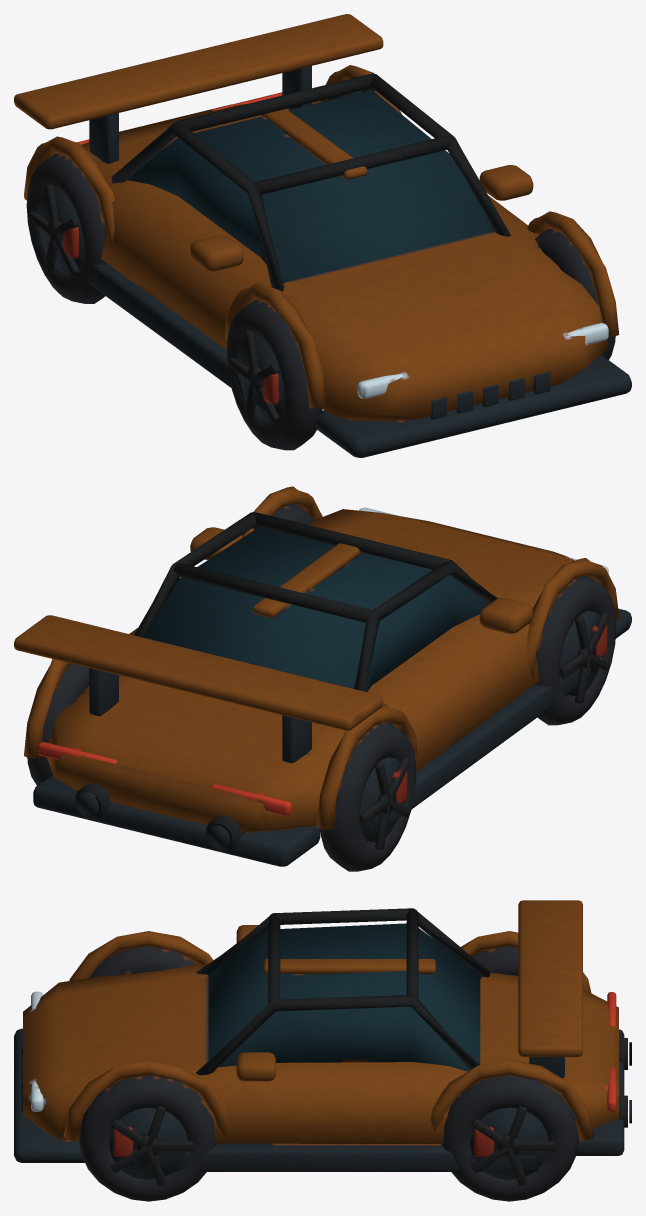
File: hero.glb
The picture shows the model from 3 angles, top to bottom: view 1: azimuth 30°, elevation 25°; view 2: azimuth 150°, elevation 25°; view 3: azimuth 270°, elevation 25°; orthographic projection. The views are drawn at different scales.
Visible parts, largest first — view 1: Game_Mesh; view 2: Game_Mesh; view 3: Game_Mesh.
Boxes of the visible parts, x1=… form: Game_Mesh: x1=14, y1=14, x2=631, y2=457; Game_Mesh: x1=14, y1=486, x2=631, y2=871; Game_Mesh: x1=14, y1=900, x2=631, y2=1201.
Bounding box in the file's own units: 1.96 × 1.13 × 3.44.
Materials: 2 (2 with a texture image).
